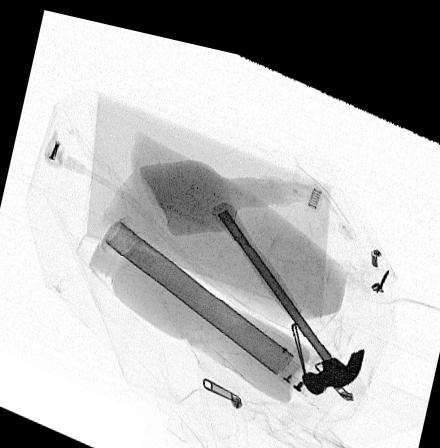Hammer: (207, 190, 365, 381)
